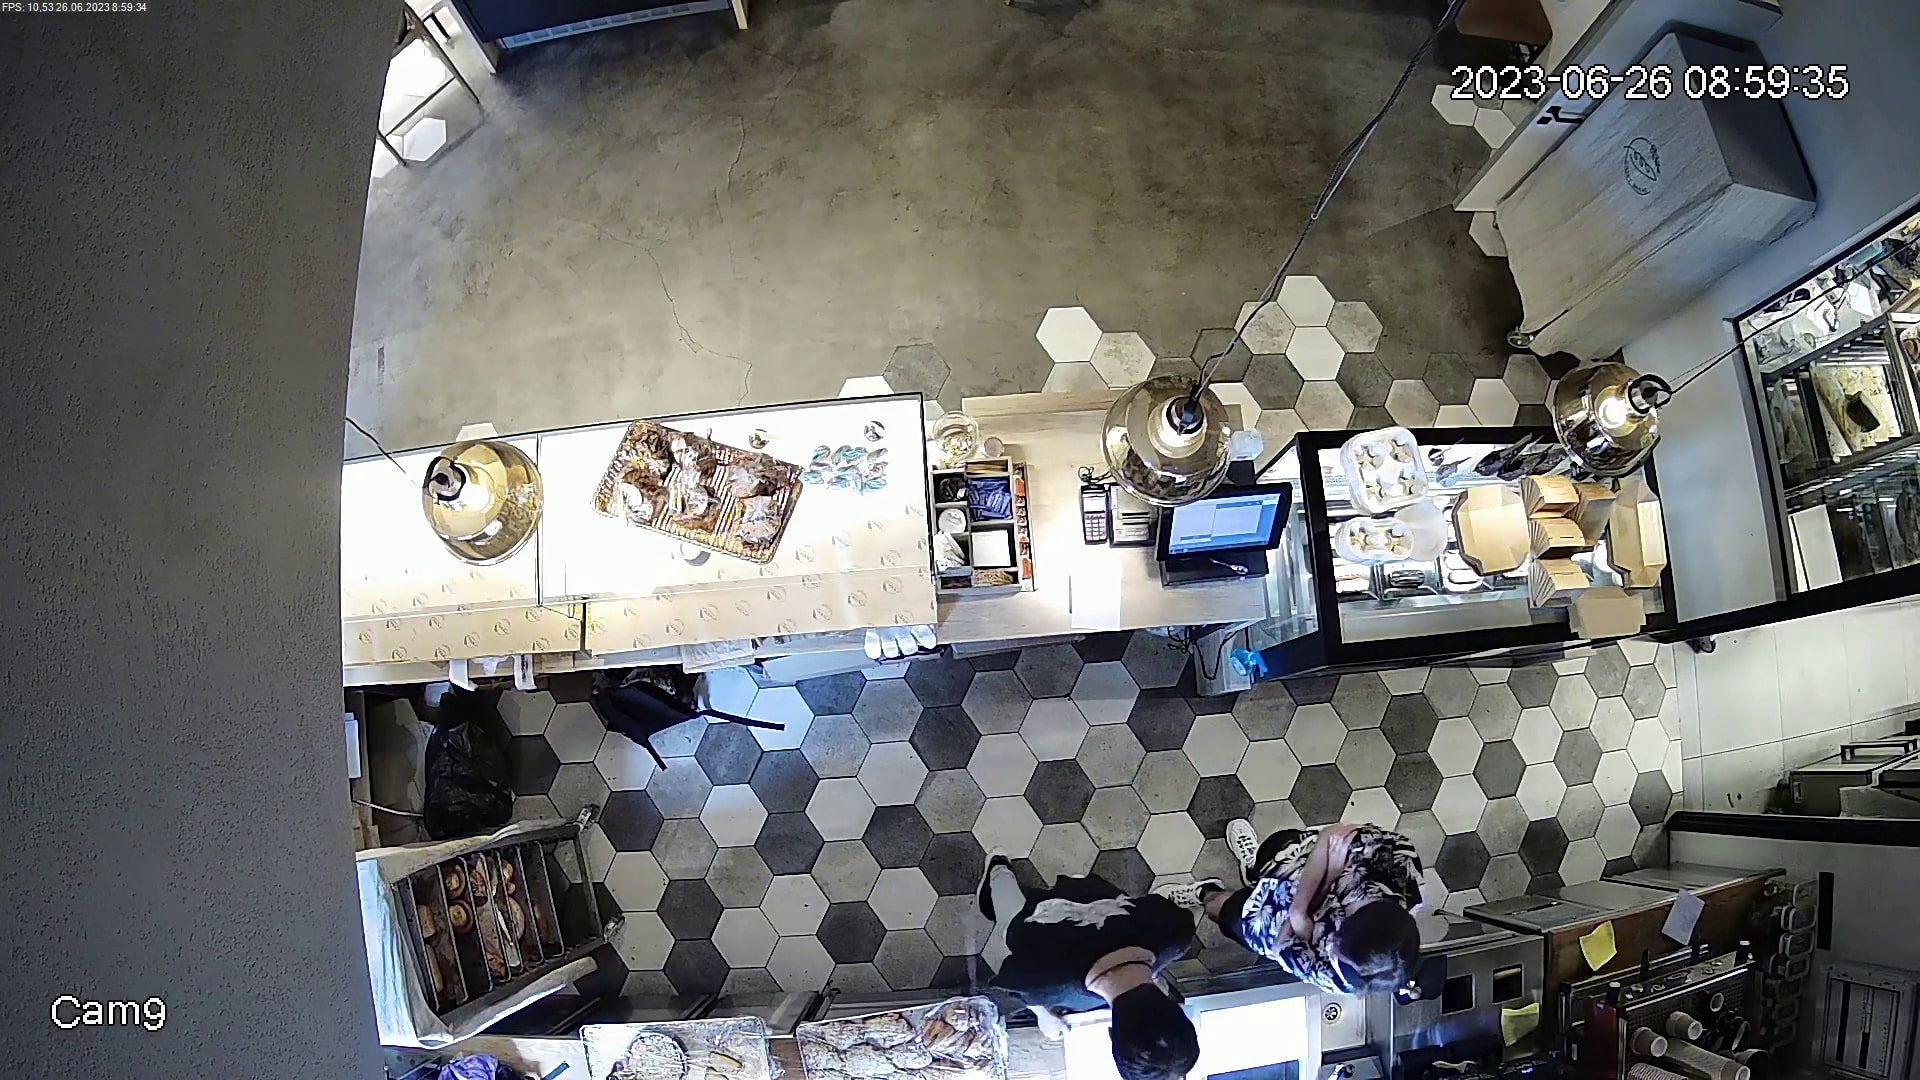person: (963, 849, 1201, 1077), (1216, 826, 1440, 1011)
